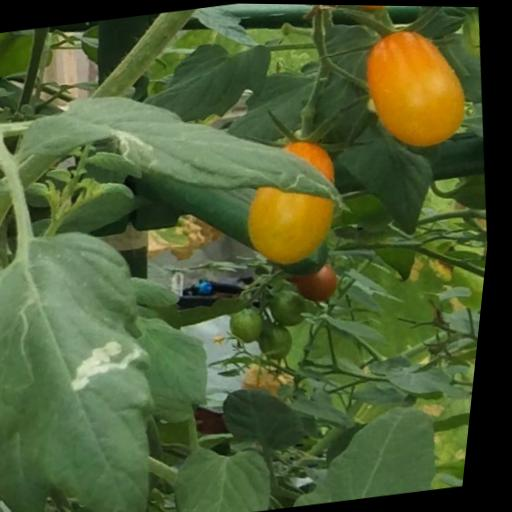Healthy: (289, 394, 460, 508), (134, 30, 282, 131), (176, 432, 291, 512)
Leaf_Miner: (6, 57, 372, 256), (0, 216, 197, 512)
